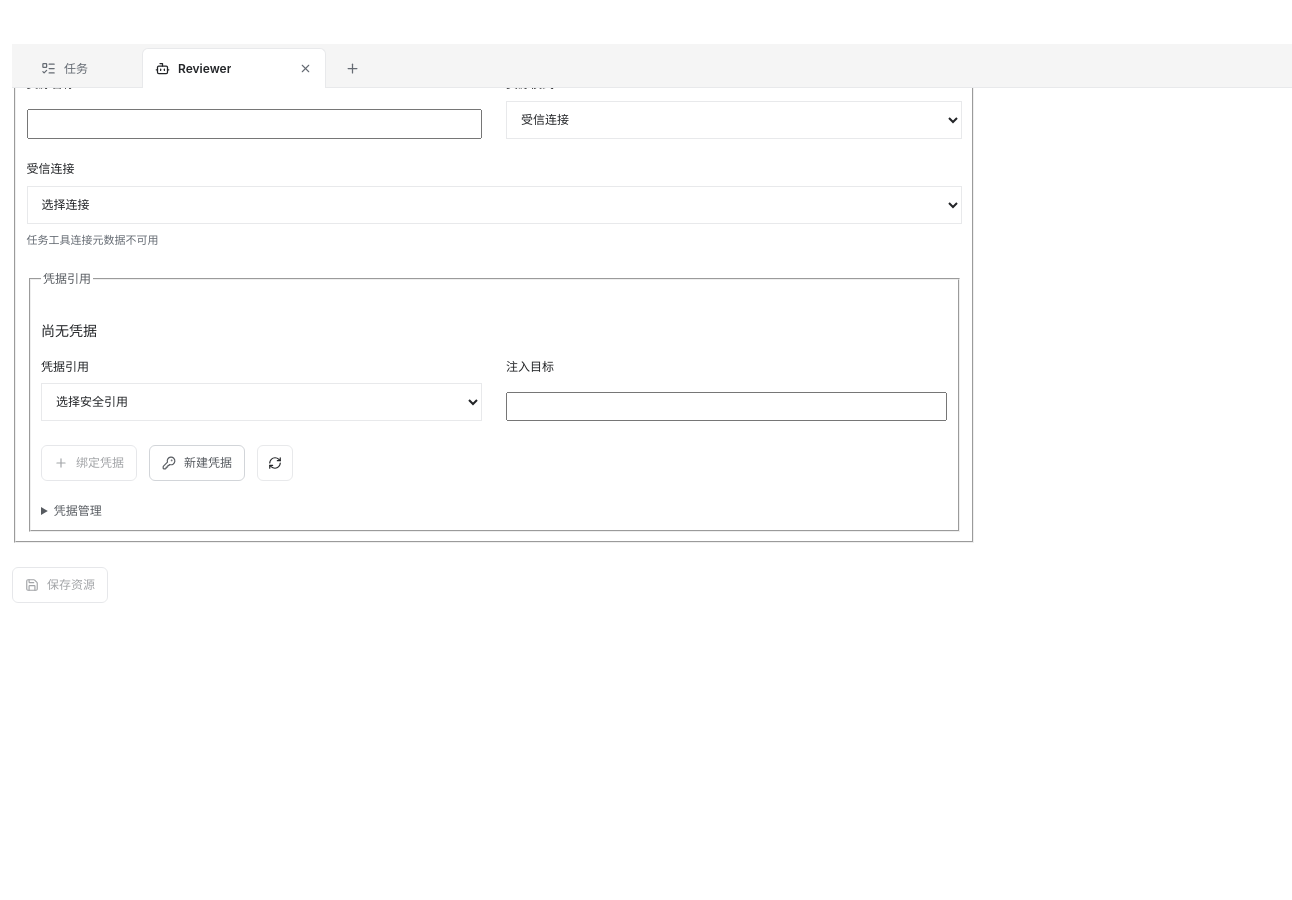
typed independent capability resource edits › keeps the other loaded connection usable when product metadata fails
Expected: the text "任务工具连接元数据不可用" is shown, [26,233,158,247]
Expected: the dropdown labelled "受信连接" is enabled, [26,186,962,224]
Type "Available connection" into the field labelled "资源名称" at (254, 124), box [26,109,482,139]
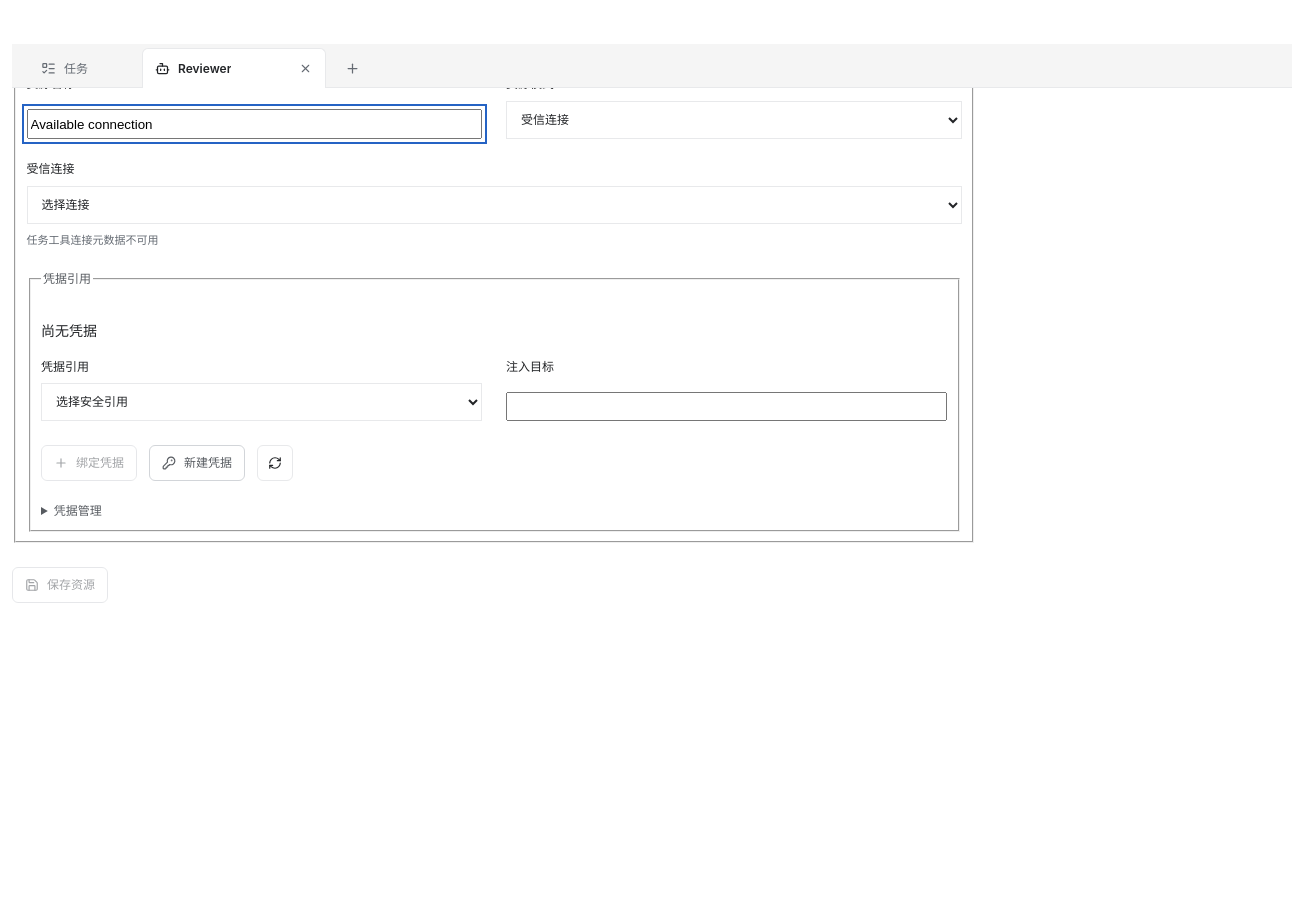
Select "Trusted controlled connection · R1 · configured" in the dropdown labelled "受信连接" at (494, 205), box [26,186,962,224]
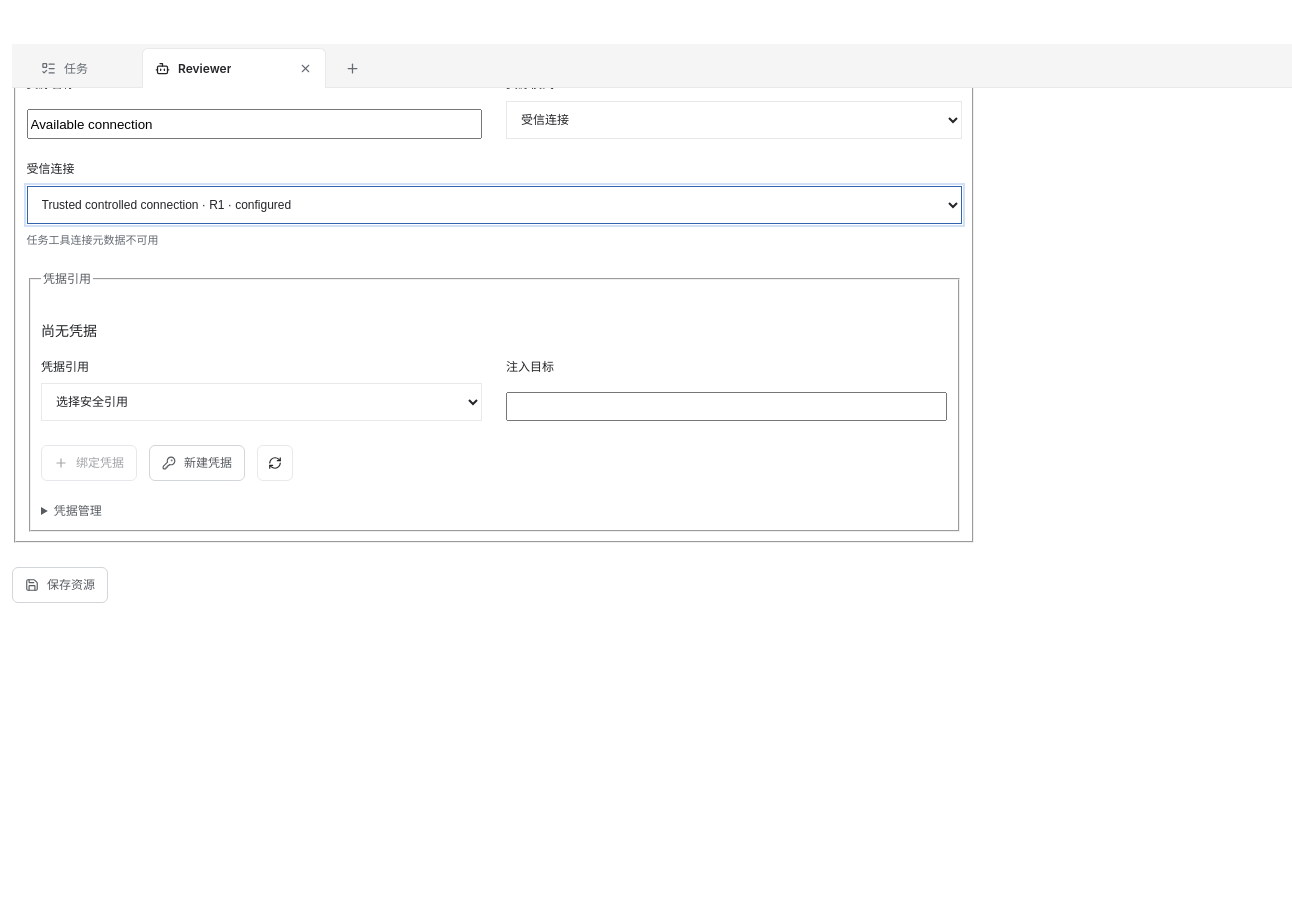
Click the button "保存资源" at (60, 585), box [12,567,108,603]
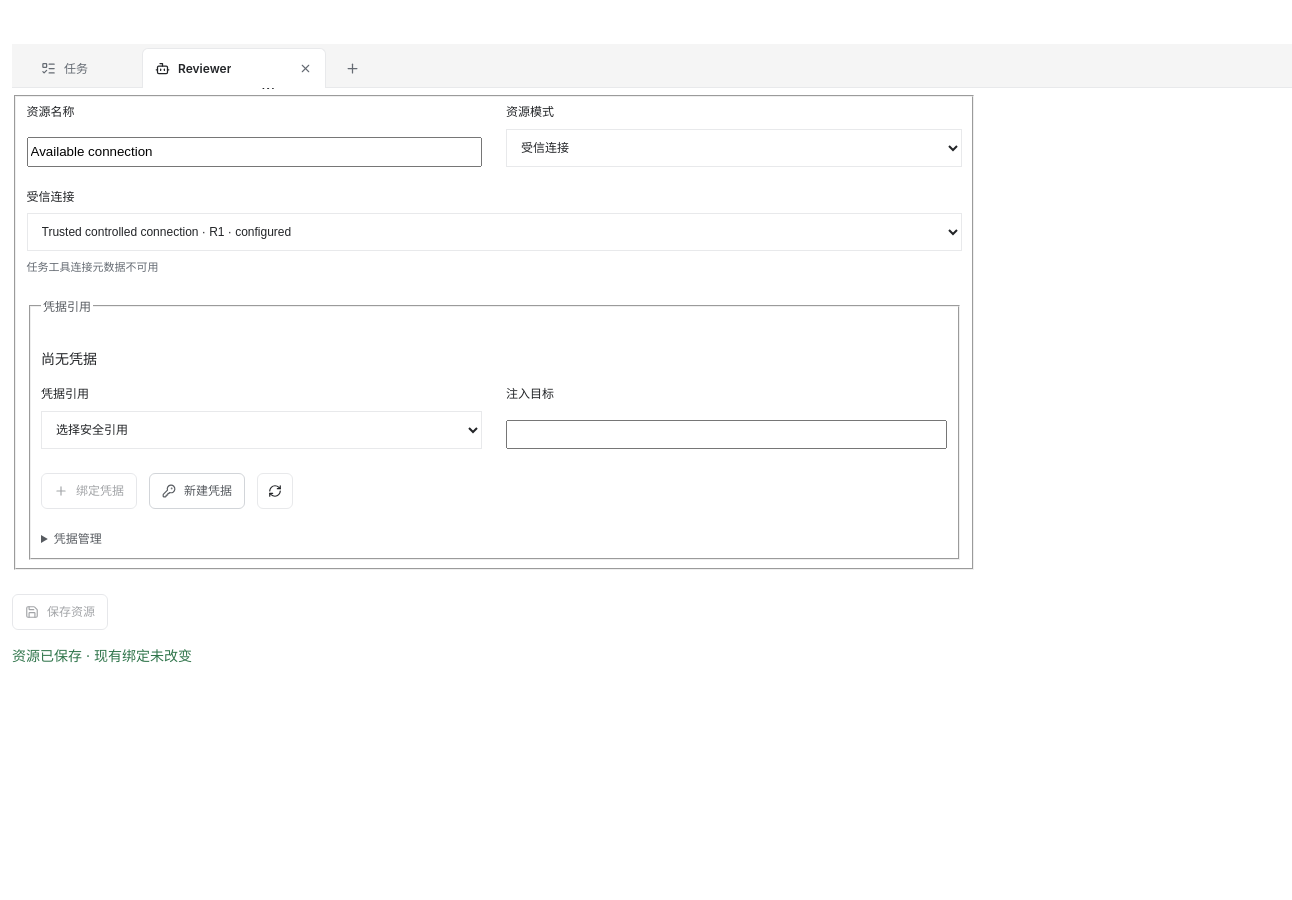
Expected: the text "资源已保存 · 现有绑定未改变" is shown, [12,647,192,664]
